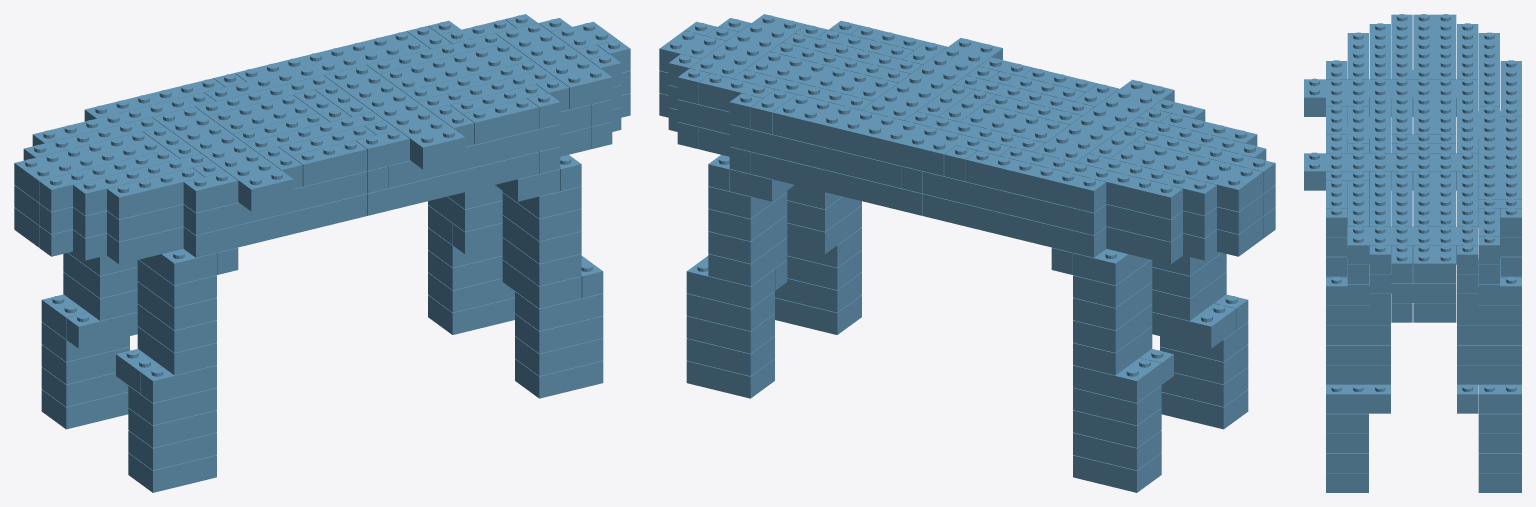
File: 045_bench_L5.glb
The picture shows the model from 3 angles, left to right: view 1: azimuth 30°, elevation 25°; view 2: azimuth 150°, elevation 25°; view 3: azimuth 270°, elevation 25°; orthographic projection. The views are drawn at different scales.
Size of the model in its own units: 26.98 by 13.13 by 9.98.
